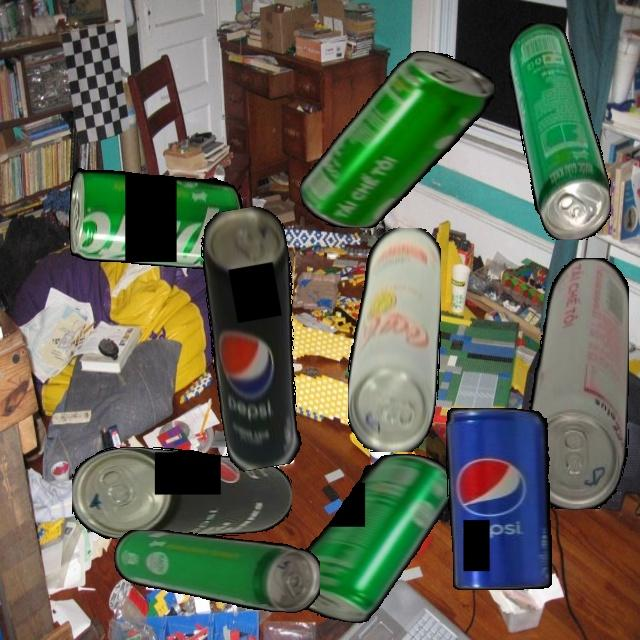debris: (187, 202, 325, 473), (299, 50, 494, 228), (286, 454, 455, 623), (526, 257, 629, 509), (68, 138, 244, 271), (508, 22, 611, 240), (347, 227, 441, 452), (72, 446, 292, 539), (446, 407, 552, 590), (113, 530, 320, 613)
